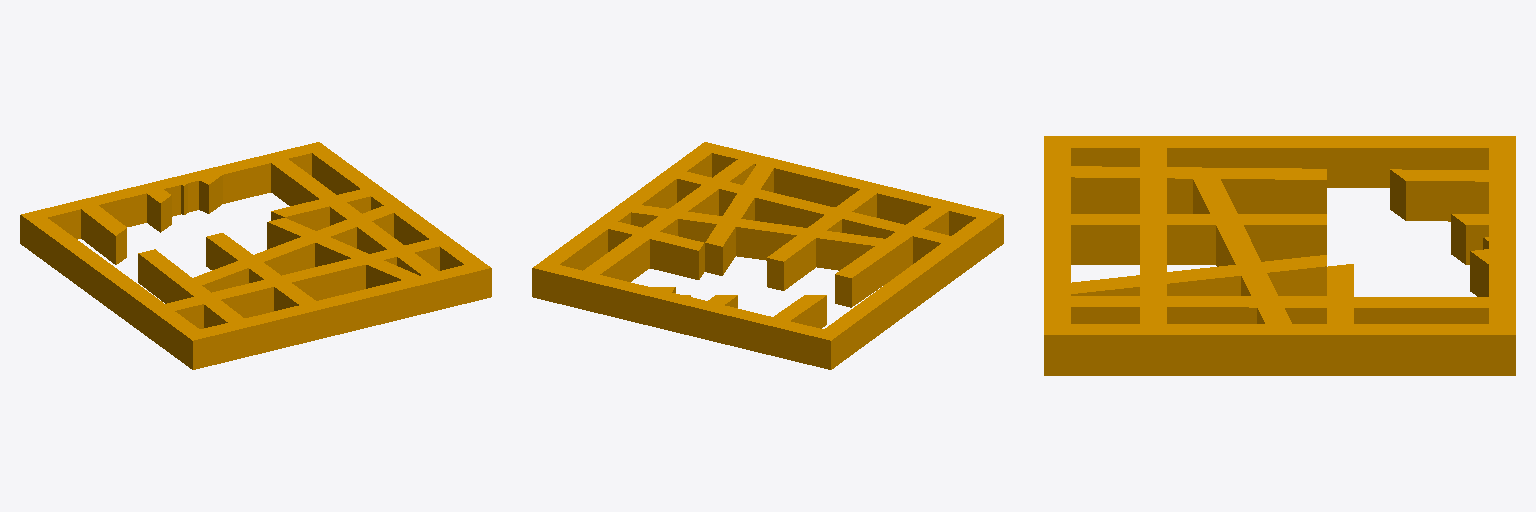
robot.urdf — isgefb:
<?xml version="1.0" ?>
<robot name="isgefb">
  <link name="base_link">
    <inertial>
      <origin xyz="0.00580293135 -0.00974164774 0.00999999978" rpy="0 0 0"/>
      <mass value="0.172752089"/>
      <inertia ixx="0.000765581582" ixy="-1.78004059e-05" ixz="-6.96486076e-21" iyy="0.000820631145" iyz="-8.35783291e-20" izz="0.00157469592"/>
    </inertial>
    <visual name="visual">
      <origin xyz="0 0 0" rpy="0 0 0"/>
      <geometry>
        <mesh filename="meshes/visual.obj" scale="1 1 1"/>
      </geometry>
    </visual>
    <collision name="border_top">
      <origin xyz="0 0 0" rpy="0 0 0"/>
      <geometry>
        <mesh filename="meshes/collision/border_top.obj" scale="1 1 1"/>
      </geometry>
    </collision>
    <collision name="border_bottom">
      <origin xyz="0 0 0" rpy="0 0 0"/>
      <geometry>
        <mesh filename="meshes/collision/border_bottom.obj" scale="1 1 1"/>
      </geometry>
    </collision>
    <collision name="border_left">
      <origin xyz="0 0 0" rpy="0 0 0"/>
      <geometry>
        <mesh filename="meshes/collision/border_left.obj" scale="1 1 1"/>
      </geometry>
    </collision>
    <collision name="border_right">
      <origin xyz="0 0 0" rpy="0 0 0"/>
      <geometry>
        <mesh filename="meshes/collision/border_right.obj" scale="1 1 1"/>
      </geometry>
    </collision>
    <collision name="A_outside_E">
      <origin xyz="0 0 0" rpy="0 0 0"/>
      <geometry>
        <mesh filename="meshes/collision/A_outside_E.obj" scale="1 1 1"/>
      </geometry>
    </collision>
    <collision name="A_outside_G">
      <origin xyz="0 0 0" rpy="0 0 0"/>
      <geometry>
        <mesh filename="meshes/collision/A_outside_G.obj" scale="1 1 1"/>
      </geometry>
    </collision>
    <collision name="B_outside_E">
      <origin xyz="0 0 0" rpy="0 0 0"/>
      <geometry>
        <mesh filename="meshes/collision/B_outside_E.obj" scale="1 1 1"/>
      </geometry>
    </collision>
    <collision name="B_outside_G">
      <origin xyz="0 0 0" rpy="0 0 0"/>
      <geometry>
        <mesh filename="meshes/collision/B_outside_G.obj" scale="1 1 1"/>
      </geometry>
    </collision>
    <collision name="C_outside_E">
      <origin xyz="0 0 0" rpy="0 0 0"/>
      <geometry>
        <mesh filename="meshes/collision/C_outside_E.obj" scale="1 1 1"/>
      </geometry>
    </collision>
    <collision name="C_outside_G">
      <origin xyz="0 0 0" rpy="0 0 0"/>
      <geometry>
        <mesh filename="meshes/collision/C_outside_G.obj" scale="1 1 1"/>
      </geometry>
    </collision>
    <collision name="D_outside_E">
      <origin xyz="0 0 0" rpy="0 0 0"/>
      <geometry>
        <mesh filename="meshes/collision/D_outside_E.obj" scale="1 1 1"/>
      </geometry>
    </collision>
    <collision name="D_outside_C">
      <origin xyz="0 0 0" rpy="0 0 0"/>
      <geometry>
        <mesh filename="meshes/collision/D_outside_C.obj" scale="1 1 1"/>
      </geometry>
    </collision>
    <collision name="E_outside_C">
      <origin xyz="0 0 0" rpy="0 0 0"/>
      <geometry>
        <mesh filename="meshes/collision/E_outside_C.obj" scale="1 1 1"/>
      </geometry>
    </collision>
    <collision name="F_outside_E">
      <origin xyz="0 0 0" rpy="0 0 0"/>
      <geometry>
        <mesh filename="meshes/collision/F_outside_E.obj" scale="1 1 1"/>
      </geometry>
    </collision>
    <collision name="G_outside_C">
      <origin xyz="0 0 0" rpy="0 0 0"/>
      <geometry>
        <mesh filename="meshes/collision/G_outside_C.obj" scale="1 1 1"/>
      </geometry>
    </collision>
    <collision name="H_outside_E">
      <origin xyz="0 0 0" rpy="0 0 0"/>
      <geometry>
        <mesh filename="meshes/collision/H_outside_E.obj" scale="1 1 1"/>
      </geometry>
    </collision>
  </link>
</robot>

--- Render facts (derived) ---
The picture shows the robot from 3 angles, left to right: view 1: azimuth 30°, elevation 25°; view 2: azimuth 150°, elevation 25°; view 3: azimuth 270°, elevation 25°; orthographic projection.
Model isgefb with 1 links and 0 joints (none), rooted at base_link, posed every joint at zero.
Visible links, largest first — view 1: base_link; view 2: base_link; view 3: base_link.
Boxes of the visible links, left/top/right/bottom form: base_link: left=20, top=142, right=491, bottom=369; base_link: left=532, top=142, right=1003, bottom=369; base_link: left=1044, top=136, right=1515, bottom=375.
Size in the robot's own frame: 0.212 by 0.212 by 0.02 metres.
1 mesh visuals loaded from 1 distinct referenced files (1 OBJ).
